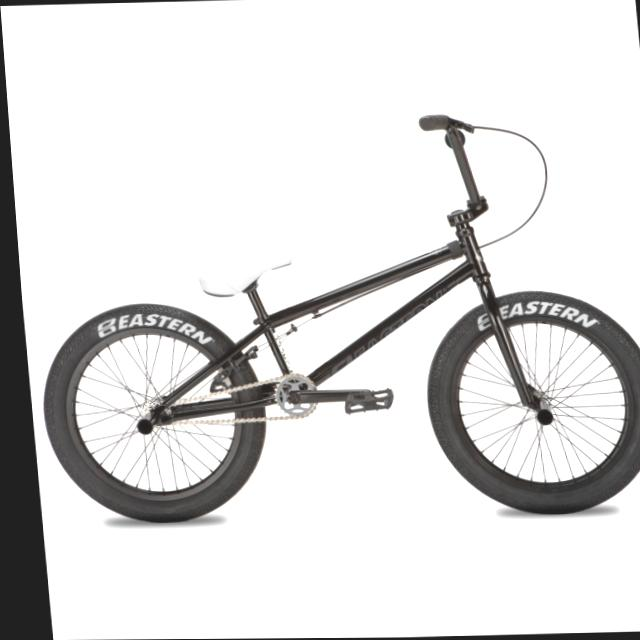bmx-bike: (17, 109, 640, 530)
